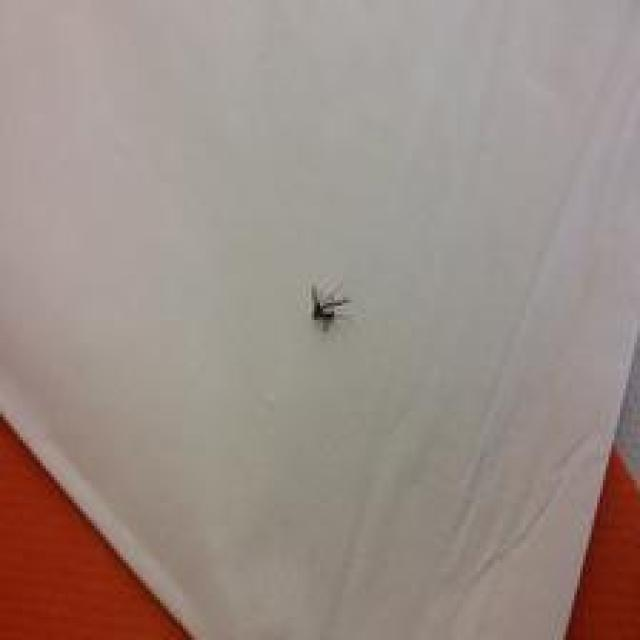Aedes albopictus: (310, 283, 350, 326)
